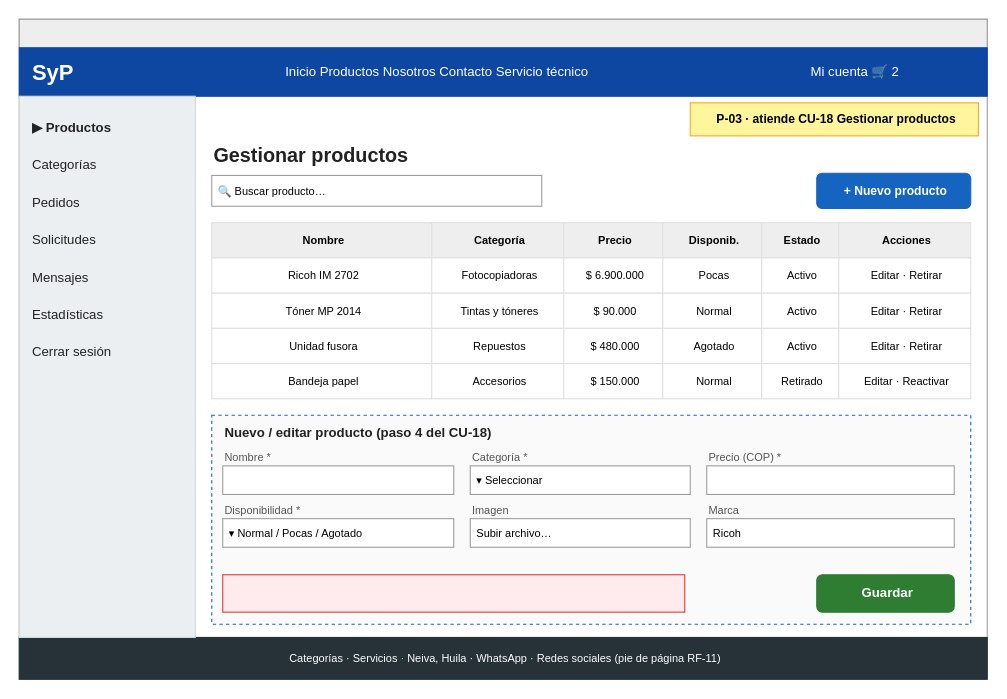
Some shapes in this 1007 by 699 pixel diagram are drawn without their labels. The centre of each missing label's shape, as x and y in pixels:
"● ● ● fotocopiadora-syp.onrender.com/admin-productos" goes at point 502,33.
"⚠ 6a. Ya existe un producto con ese nombre" goes at point 453,593.
